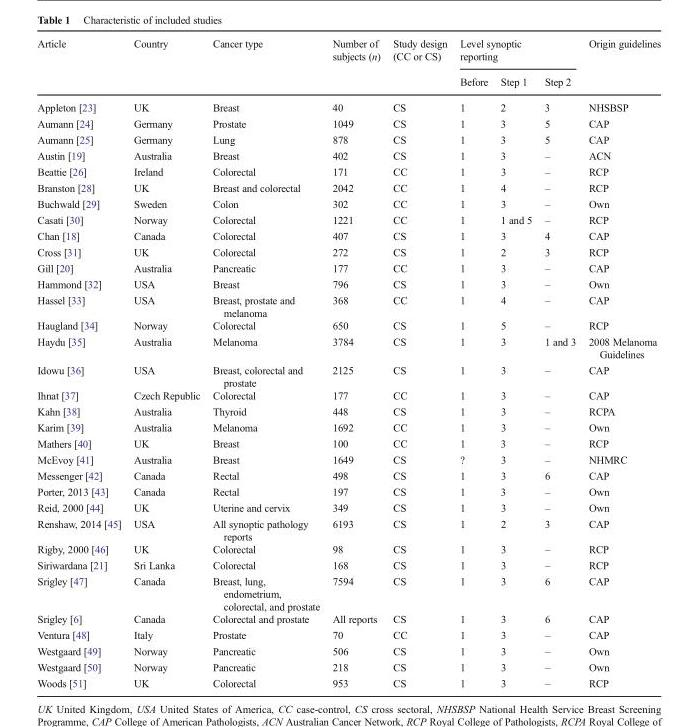table: (36, 37, 660, 688)
table column: (205, 37, 325, 688), (36, 37, 126, 688), (126, 37, 205, 688), (581, 37, 660, 688), (385, 37, 452, 688), (325, 37, 385, 688), (493, 37, 537, 688), (537, 37, 581, 688), (452, 37, 493, 688)
table column header: (36, 37, 660, 94)
table row: (36, 572, 660, 612), (36, 37, 660, 68), (36, 333, 660, 361), (36, 291, 660, 318), (36, 361, 660, 388), (36, 515, 660, 542), (36, 68, 660, 94), (36, 94, 660, 115), (36, 402, 660, 419), (36, 115, 660, 131), (36, 131, 660, 147), (36, 147, 660, 163), (36, 163, 660, 179), (36, 179, 660, 195), (36, 195, 660, 211), (36, 211, 660, 227), (36, 227, 660, 243), (36, 243, 660, 259), (36, 259, 660, 275), (36, 275, 660, 291), (36, 419, 660, 435), (36, 435, 660, 451), (36, 451, 660, 467), (36, 467, 660, 483), (36, 483, 660, 499), (36, 499, 660, 515), (36, 556, 660, 572), (36, 626, 660, 642), (36, 642, 660, 658), (36, 658, 660, 674), (36, 318, 660, 333), (36, 388, 660, 402), (36, 542, 660, 556), (36, 612, 660, 626), (36, 674, 660, 688)
table spanning cell: (205, 37, 325, 94), (36, 37, 126, 94), (126, 37, 205, 94), (581, 37, 660, 94), (452, 37, 581, 68), (385, 37, 452, 94), (325, 37, 385, 94)
